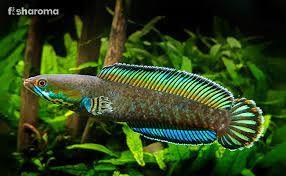Snakehead: (23, 62, 267, 156)
